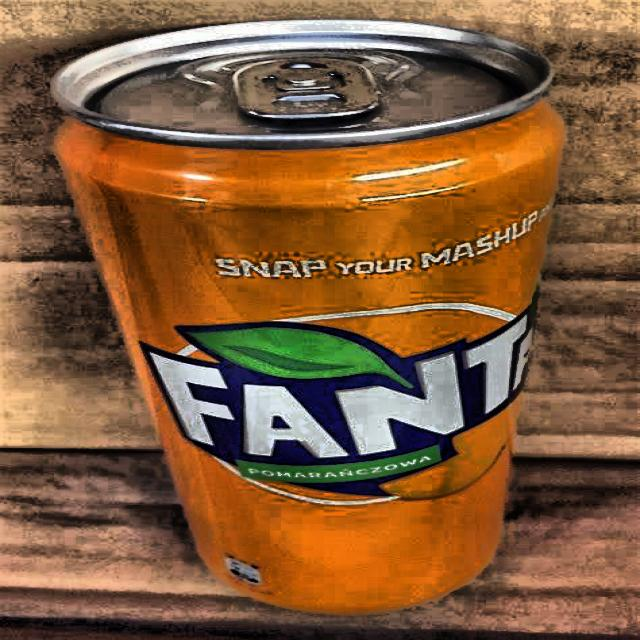Cans: (45, 19, 575, 632)
